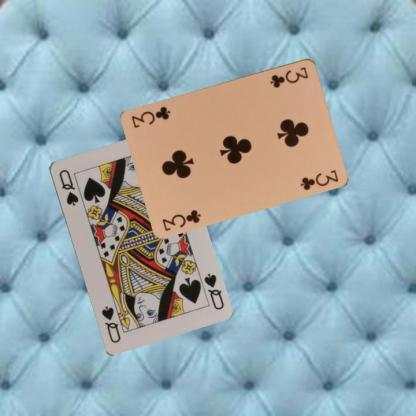3c: (159, 207, 203, 232), (268, 64, 310, 89)
Qs: (56, 166, 80, 207), (201, 270, 224, 311)
